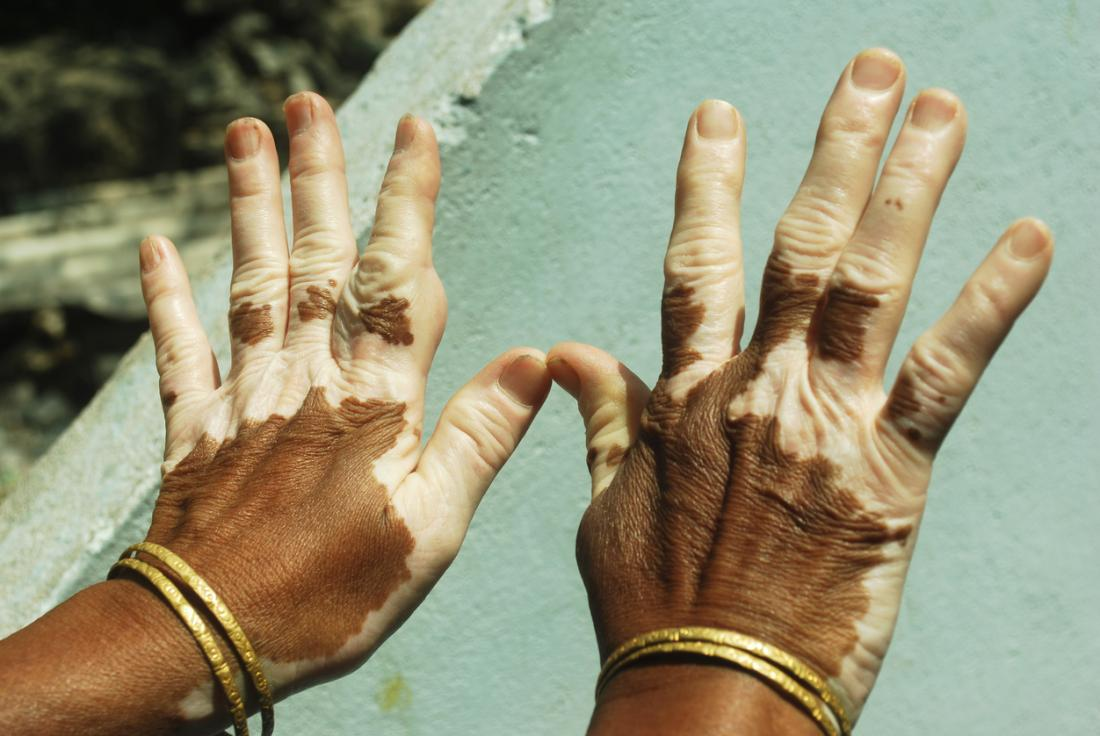vitiligo: (125, 155, 490, 564), (666, 117, 931, 592)
